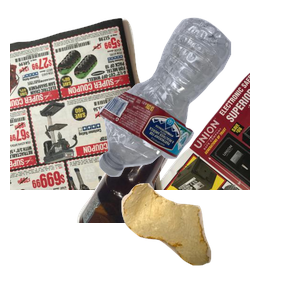glass: (74, 120, 244, 300)
paper: (10, 15, 250, 195)
plastic: (96, 15, 300, 184)
trash: (119, 181, 300, 300)
